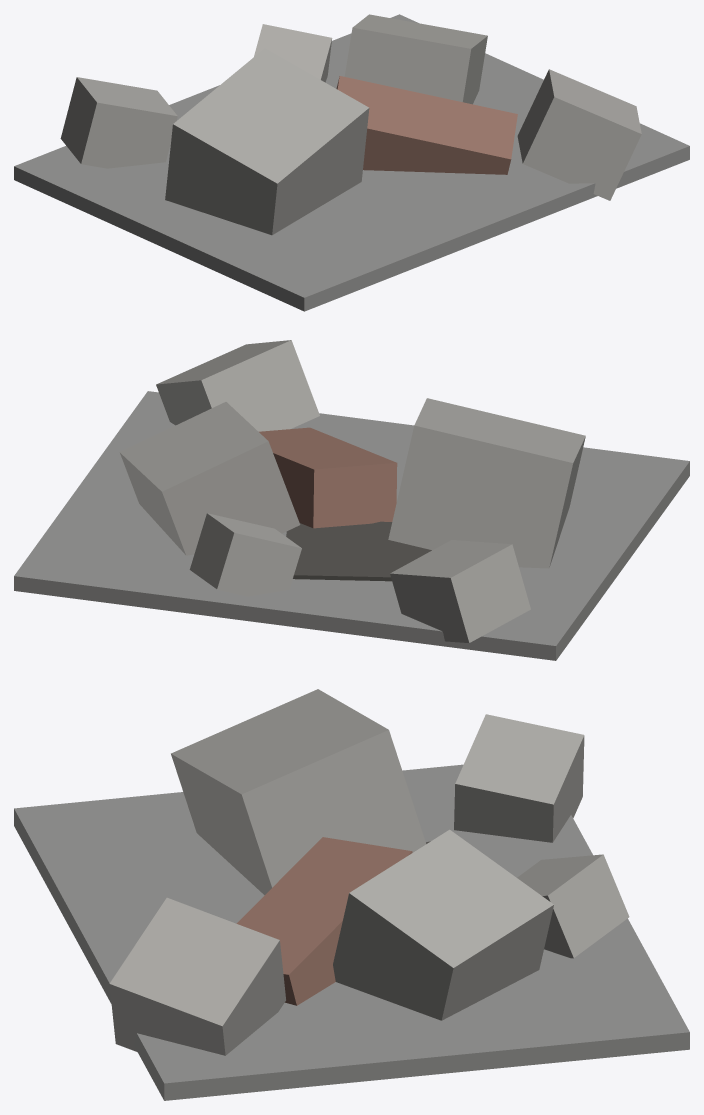
The model's file is Dress_RubbleSmall.fbx.
3 renders of one model, top to bottom at view 1: azimuth 30°, elevation 25°; view 2: azimuth 150°, elevation 25°; view 3: azimuth 270°, elevation 25°, orthographic. The views are drawn at different scales.
Visible parts, largest first — view 1: Dress_RubbleSmall; view 2: Dress_RubbleSmall; view 3: Dress_RubbleSmall.
Part boxes in pixels (<box>): Dress_RubbleSmall: <box>14,14,689,311</box>; Dress_RubbleSmall: <box>14,340,689,660</box>; Dress_RubbleSmall: <box>14,689,689,1100</box>.
Size of the model in its own units: 60.12 by 16.43 by 52.62.
